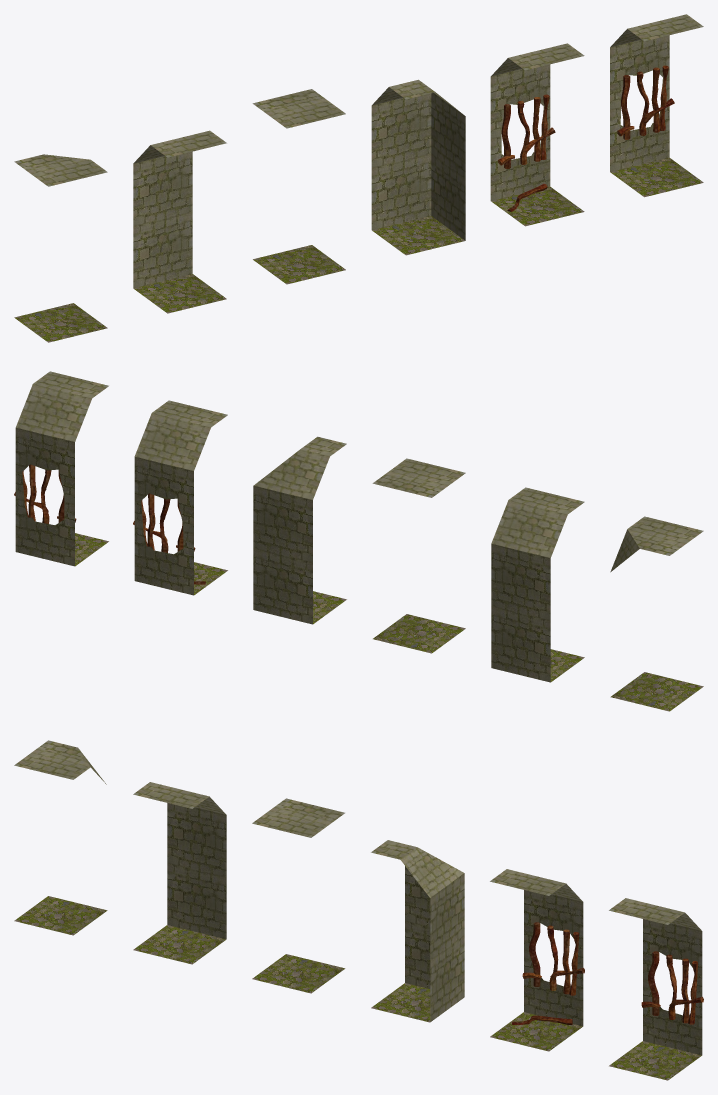
The model's file is tileset.glb.
The picture shows the model from 3 angles, top to bottom: view 1: azimuth 30°, elevation 25°; view 2: azimuth 150°, elevation 25°; view 3: azimuth 330°, elevation 25°; orthographic projection.
Visible parts, largest first — view 1: in-col, wall-col, rustybars-col, notrustybars-col, tile-col, out-col; view 2: wall-col, rustybars-col, notrustybars-col, in-col, out-col, tile-col; view 3: wall-col, in-col, rustybars-col, notrustybars-col, tile-col, out-col.
Part boxes in pixels (x1,y1,x2,y2): in-col: (371,79,465,255); wall-col: (133,130,226,313); rustybars-col: (490,43,584,226); notrustybars-col: (610,14,703,197); tile-col: (252,89,345,284); out-col: (14,154,107,342); wall-col: (491,487,584,682); rustybars-col: (133,400,227,595); notrustybars-col: (14,371,108,566); in-col: (253,436,346,624); out-col: (610,516,703,711); tile-col: (372,458,465,653); wall-col: (133,782,226,964); in-col: (371,840,464,1022); rustybars-col: (490,869,584,1051); notrustybars-col: (609,898,703,1080); tile-col: (252,798,345,993); out-col: (14,740,107,935).
Size of the model in its own units: 11.04 by 2.56 by 1.
Materials: 3 (3 with a texture image).
